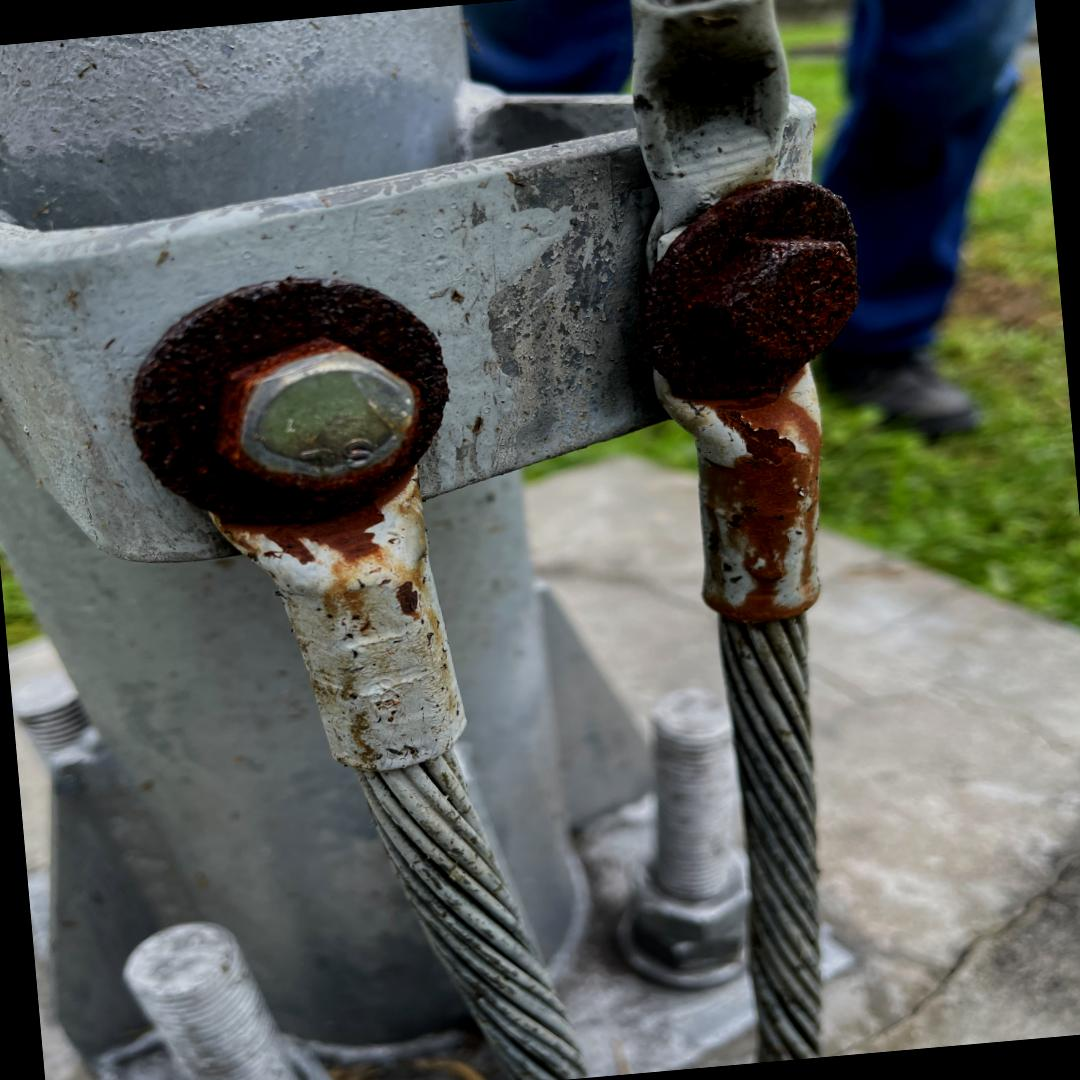Metal: (0, 0, 818, 1080)
